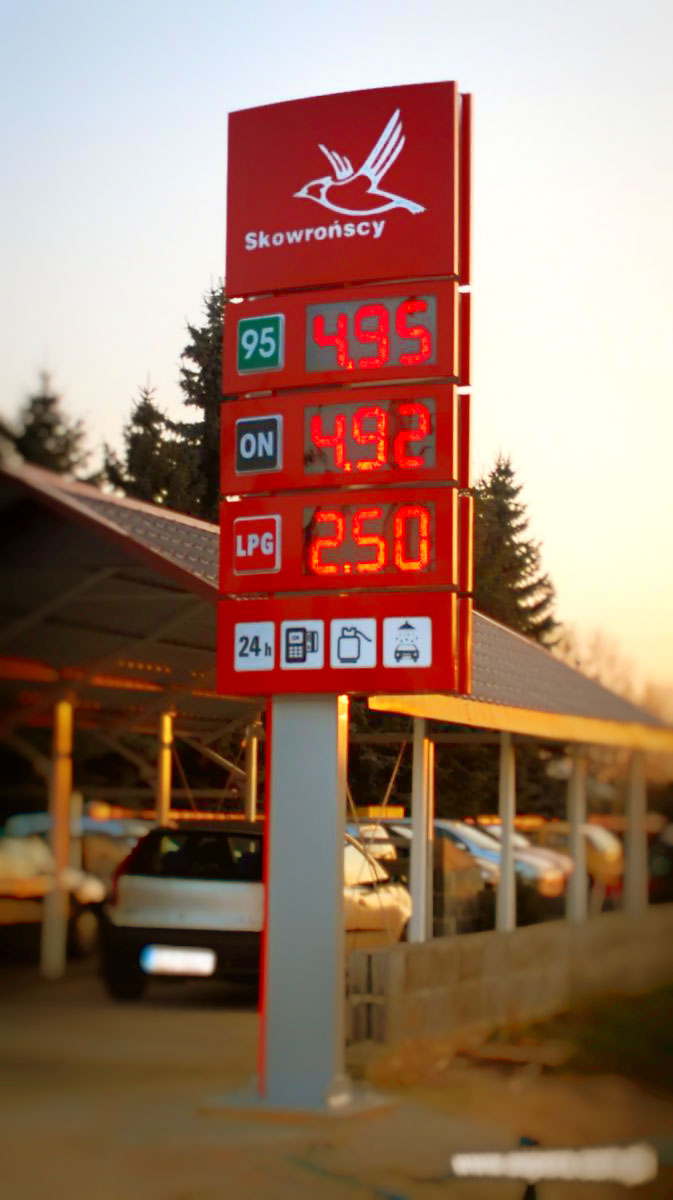LPG: (234, 513, 282, 576)
ON: (230, 406, 282, 476)
PB95: (234, 314, 283, 373)
